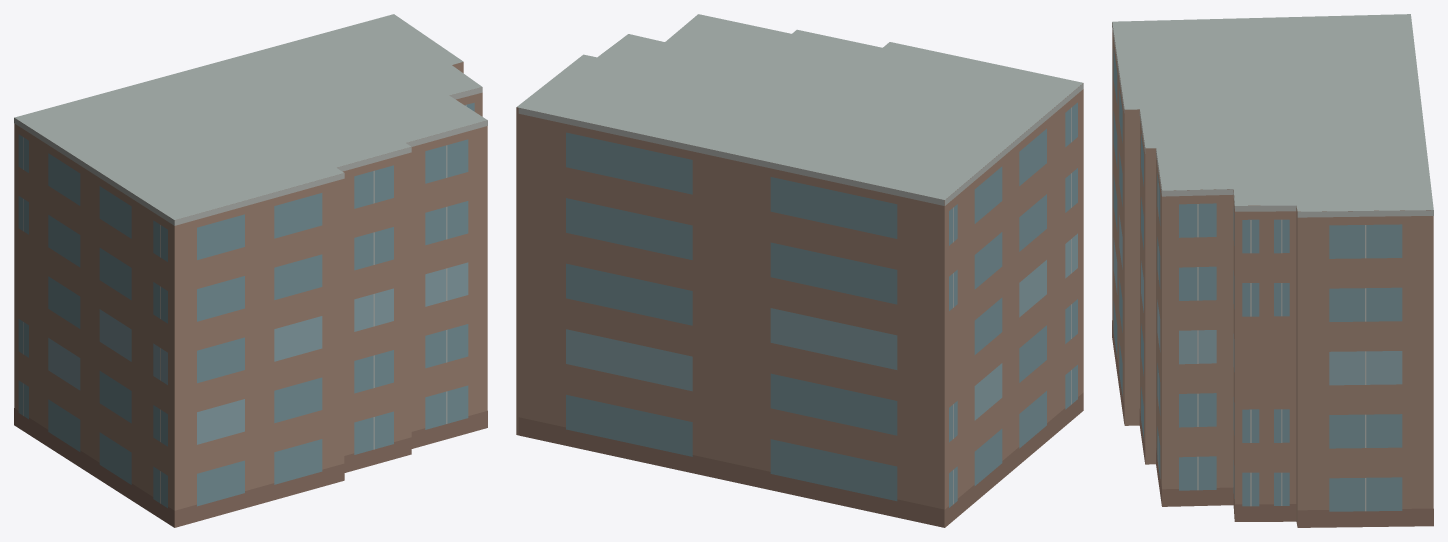
The model's file is survey-upis-32721685.glb.
3 renders of one model, left to right at view 1: azimuth 30°, elevation 25°; view 2: azimuth 150°, elevation 25°; view 3: azimuth 270°, elevation 25°, orthographic. The views are drawn at different scales.
Visible parts, largest first — view 1: survey-upis-32721685.tmp; view 2: survey-upis-32721685.tmp; view 3: survey-upis-32721685.tmp.
Part boxes in pixels (left/top/right/bottom): survey-upis-32721685.tmp: left=14, top=14, right=487, bottom=527; survey-upis-32721685.tmp: left=516, top=14, right=1083, bottom=527; survey-upis-32721685.tmp: left=1112, top=14, right=1433, bottom=527.
Size of the model in its own units: 17.72 by 13.2 by 12.18.
